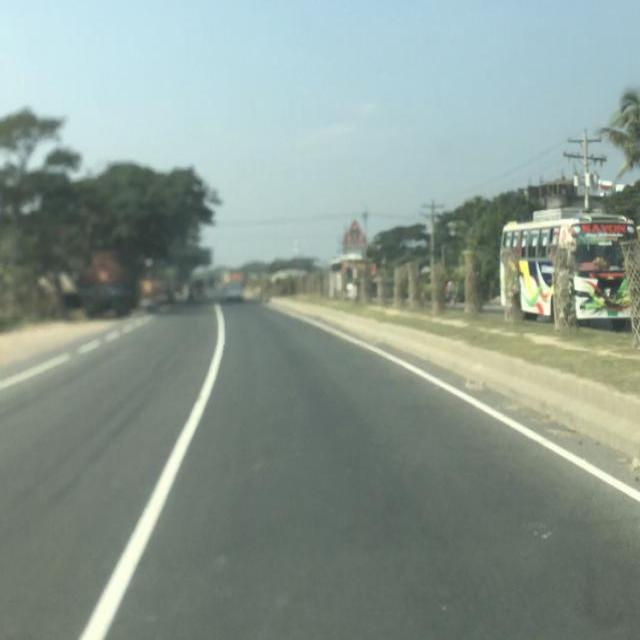bus: (497, 206, 639, 330)
